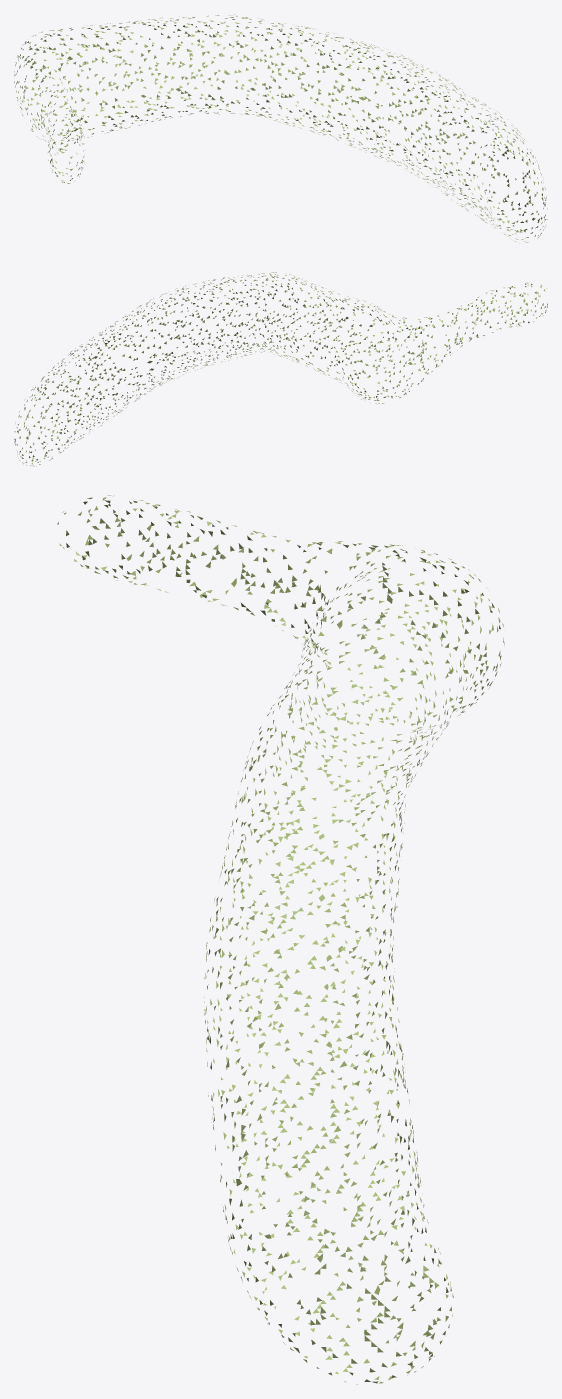
The model's file is morph_011.glb.
The picture shows the model from 3 angles, top to bottom: view 1: azimuth 30°, elevation 25°; view 2: azimuth 150°, elevation 25°; view 3: azimuth 270°, elevation 25°; orthographic projection. The views are drawn at different scales.
Bounding box in the file's own units: 118 × 60.74 × 50.96.
